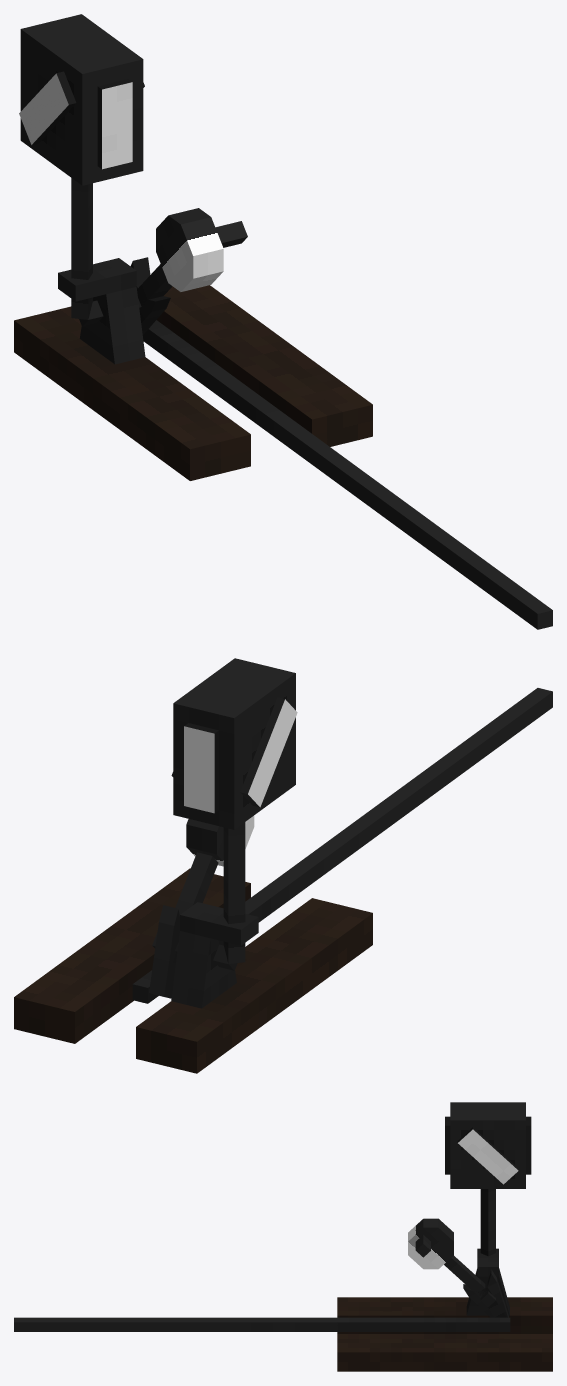
The model's file is switch_left_on.obj.
3 renders of one model, top to bottom at view 1: azimuth 30°, elevation 25°; view 2: azimuth 150°, elevation 25°; view 3: azimuth 270°, elevation 25°, orthographic. The views are drawn at different scales.
Parts seen in each view (by area): view 1: base_RAIL_BASE.001; view 2: base_RAIL_BASE.001; view 3: base_RAIL_BASE.001.
Boxes of the visible parts, x1=… form: base_RAIL_BASE.001: x1=14, y1=14, x2=552, y2=629; base_RAIL_BASE.001: x1=14, y1=658, x2=552, y2=1073; base_RAIL_BASE.001: x1=14, y1=1102, x2=552, y2=1371.
Bounding box in the file's own units: 0.8438 × 1.34 × 3.12.
Materials: 1 (1 with a texture image).
